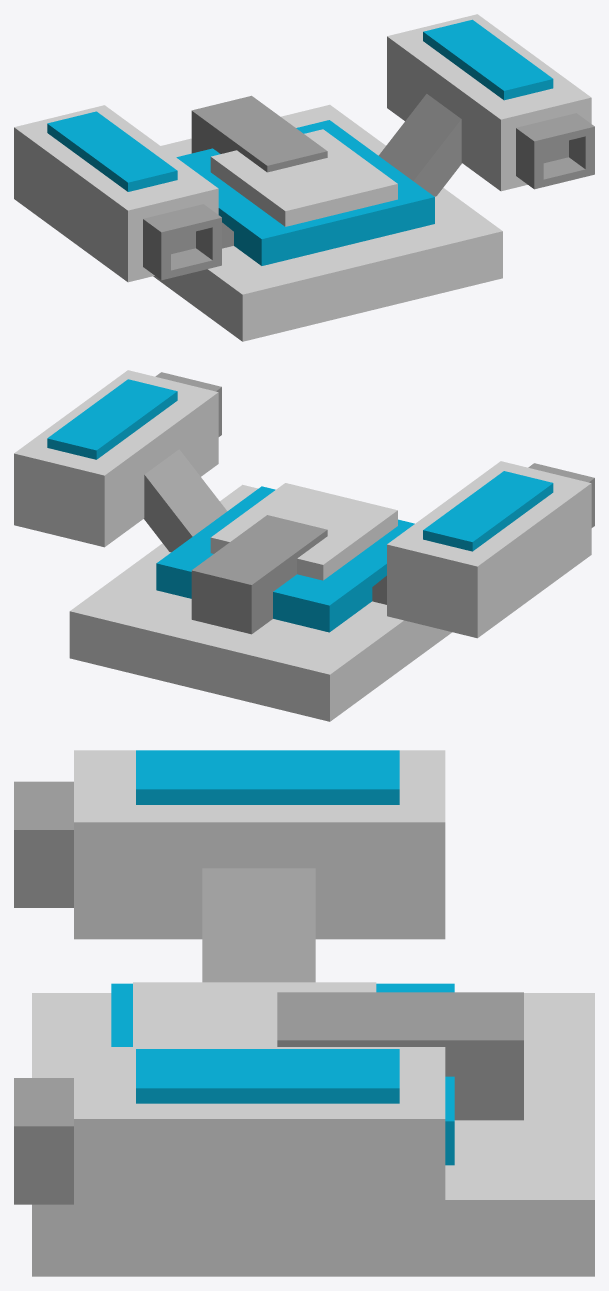
File: Wicker Class.fbx
The picture shows the model from 3 angles, top to bottom: view 1: azimuth 30°, elevation 25°; view 2: azimuth 150°, elevation 25°; view 3: azimuth 270°, elevation 25°; orthographic projection. The views are drawn at different scales.
Parts seen in each view (by area): view 1: pCube21, pCube22, pCube23; view 2: pCube21, pCube23, pCube22; view 3: pCube21, pCube22, pCube23.
Part boxes in pixels (box(x1,y1,x2,y2)): pCube21: box(14, 14, 591, 341); pCube22: box(143, 94, 594, 280); pCube23: box(47, 19, 553, 265); pCube21: box(14, 370, 591, 721); pCube23: box(47, 379, 553, 632); pCube22: box(144, 372, 594, 634); pCube21: box(32, 750, 594, 1276); pCube22: box(14, 781, 523, 1204); pCube23: box(111, 750, 454, 1165).
Bounding box in the file's own units: 40.17 × 12.91 × 26.76.
